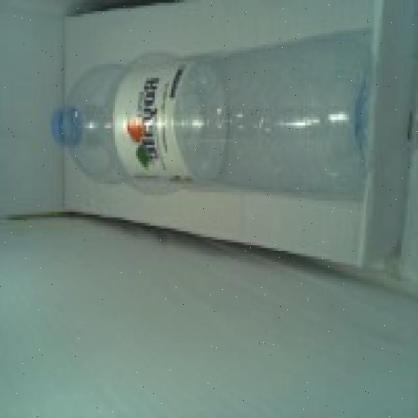bottle: (53, 14, 386, 224)
label: (115, 52, 199, 198)
